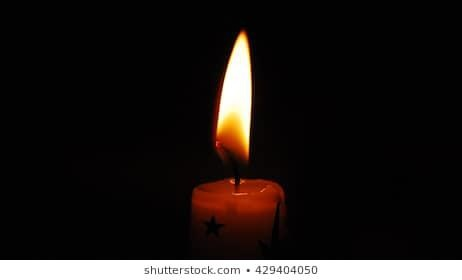fire: (215, 23, 254, 163)
